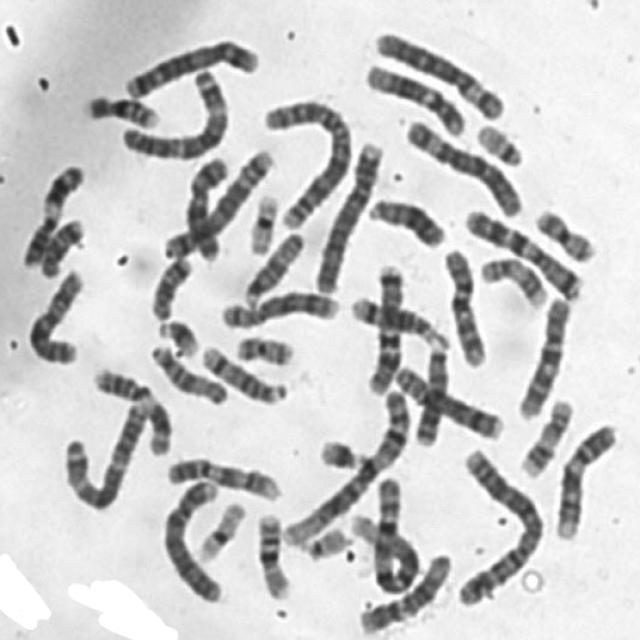A1: (280, 383, 413, 550), (343, 469, 420, 596)
A2: (448, 441, 546, 608), (258, 89, 356, 231)
A3: (113, 62, 233, 162), (56, 394, 151, 512)
B4: (309, 133, 387, 294), (157, 472, 227, 604)
B5: (159, 143, 279, 262), (118, 31, 264, 101)
C10: (512, 289, 577, 423), (438, 242, 491, 370)
C11: (87, 360, 174, 459), (15, 156, 89, 272)
C12: (354, 545, 456, 637), (360, 56, 470, 138)
C6: (368, 22, 507, 122), (398, 110, 526, 218)
C7: (459, 203, 585, 303), (362, 257, 407, 397)
C8: (388, 357, 508, 442), (215, 284, 341, 332)
C9: (550, 417, 621, 542), (160, 450, 284, 502)
D13: (361, 190, 449, 251), (409, 332, 454, 448)
D14: (196, 337, 291, 407), (345, 289, 451, 351)
D15: (143, 337, 230, 407), (236, 225, 308, 308)
E16: (252, 505, 295, 602), (78, 87, 162, 131)
E17: (516, 392, 577, 479), (476, 250, 552, 310)
E18: (144, 249, 196, 323), (36, 211, 88, 279)
F19: (192, 495, 250, 563), (242, 186, 283, 257)
F20: (529, 200, 599, 265), (231, 329, 296, 366)
G21: (313, 430, 371, 473), (153, 312, 203, 359)
G22: (470, 116, 528, 168), (295, 518, 355, 563)
X: (23, 264, 88, 368), (174, 152, 230, 264)
